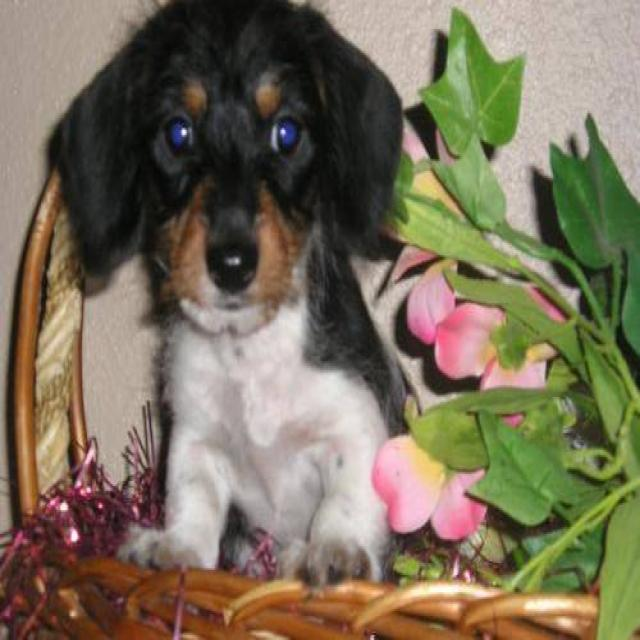dog: (44, 0, 423, 589)
